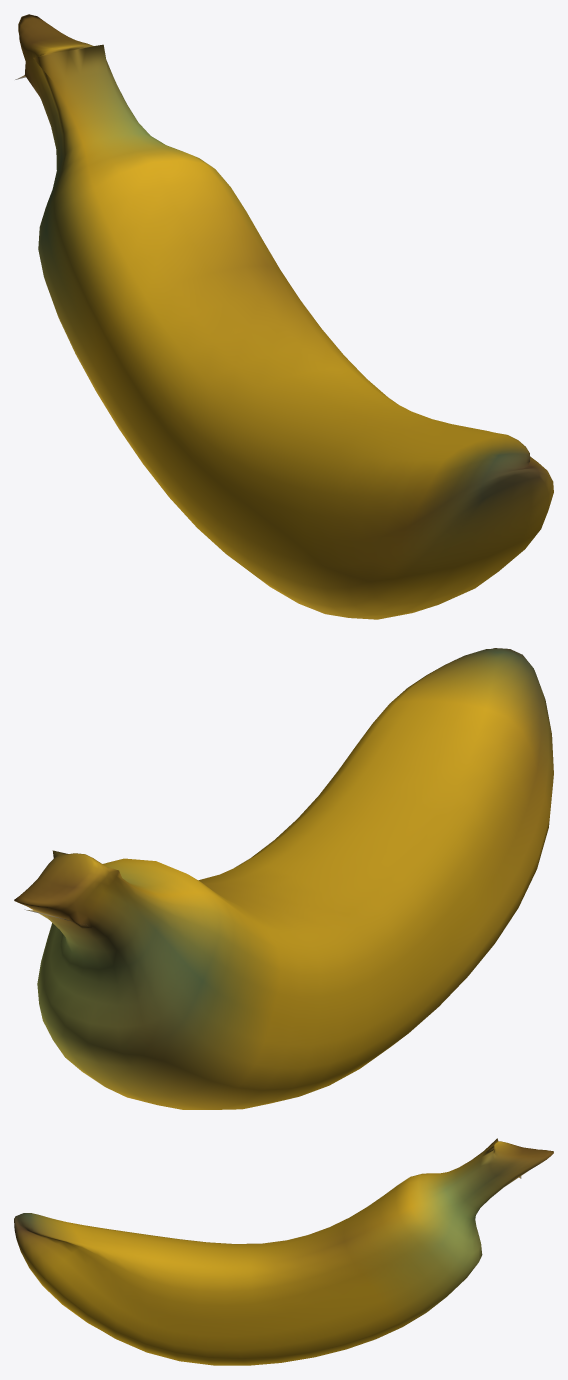
The model's file is banana.glb.
3 views of the same model, one above another, from view 1: azimuth 30°, elevation 25°; view 2: azimuth 150°, elevation 25°; view 3: azimuth 270°, elevation 25° (orthographic). The views are drawn at different scales.
Parts seen in each view (by area): view 1: Cube; view 2: Cube; view 3: Cube.
Boxes of the visible parts, x1,y1,x2,y2 form: Cube: [15, 14, 553, 619]; Cube: [14, 648, 553, 1109]; Cube: [14, 1138, 553, 1365].
Size of the model in its own units: 3.11 by 6.48 by 15.23.
